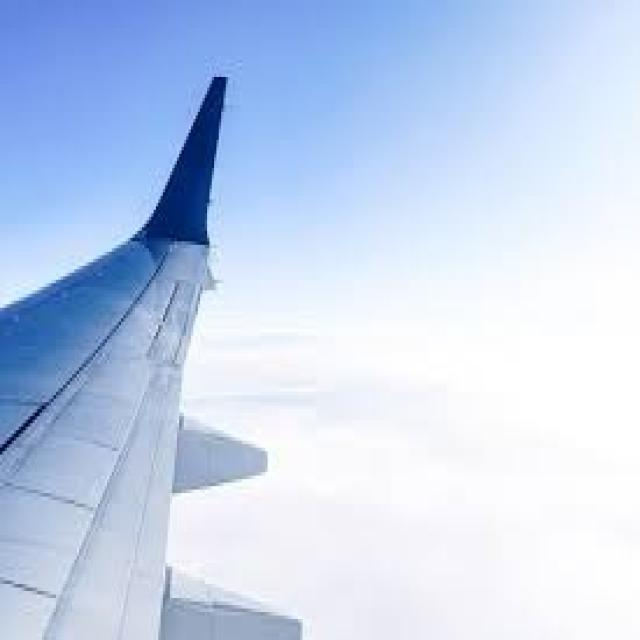jet: (0, 63, 368, 640)
